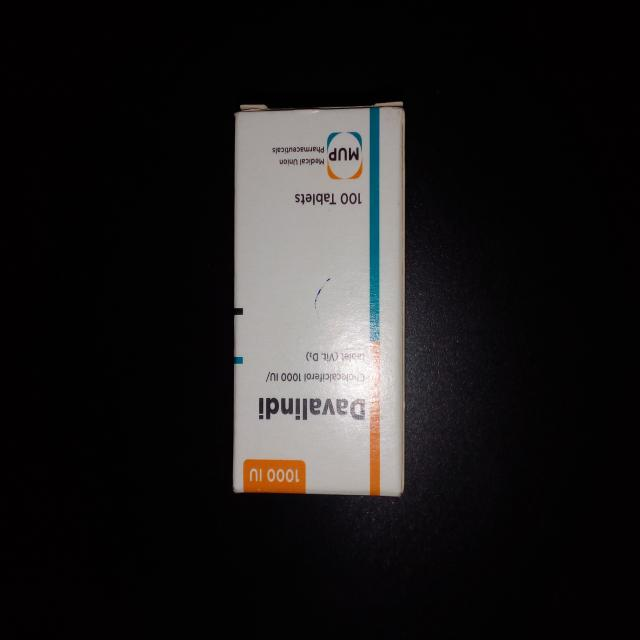Medicine: (226, 96, 412, 500)
